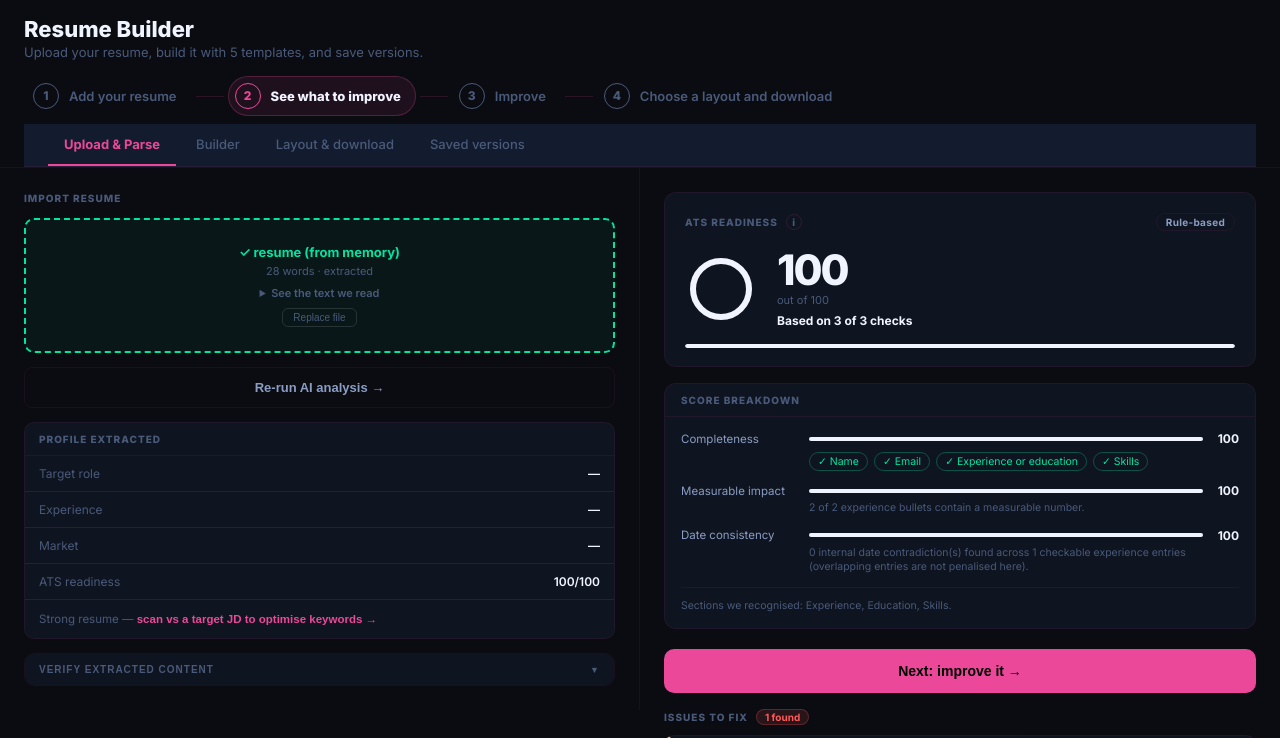
the Builder and the template › no longer carries the row of template buttons; it names the template and links to the gallery
The image size is (1280, 738).
Click the button "Builder" at (218, 145), box [180,124,256,166]
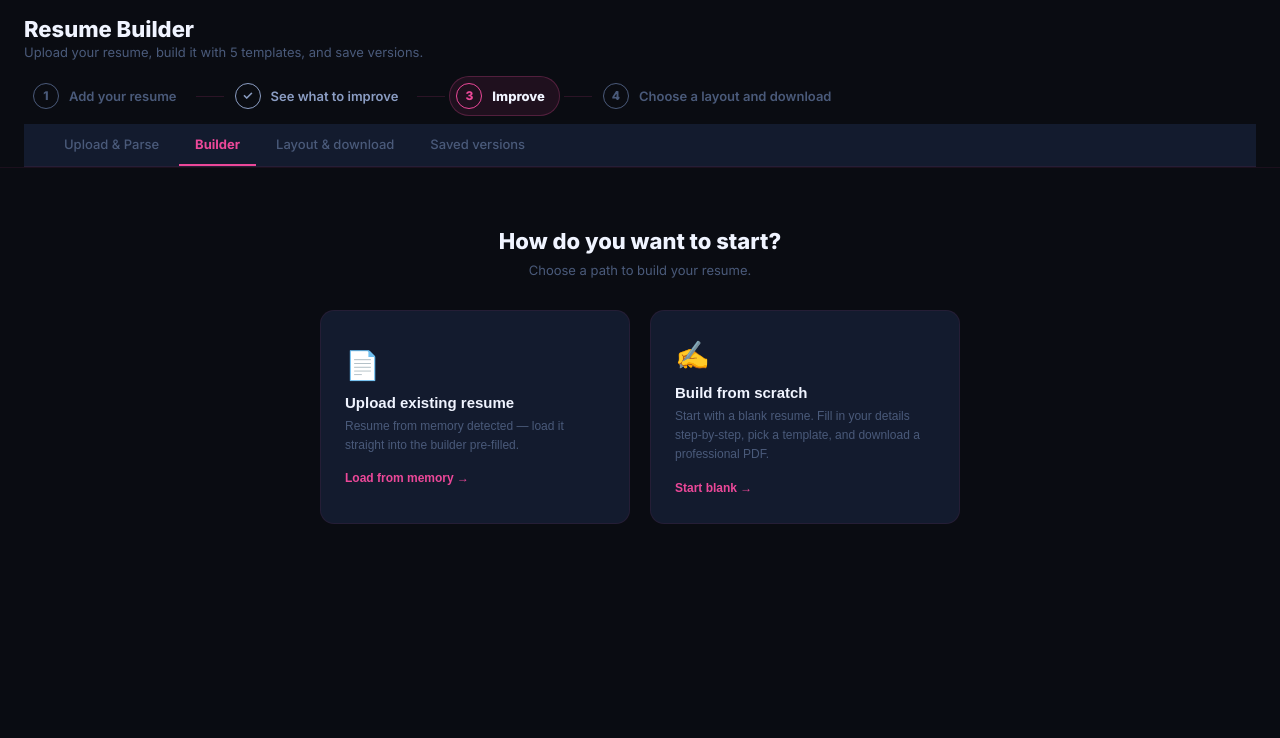
Click the text "Load from memory →" at (407, 478), box [345,471,469,485]
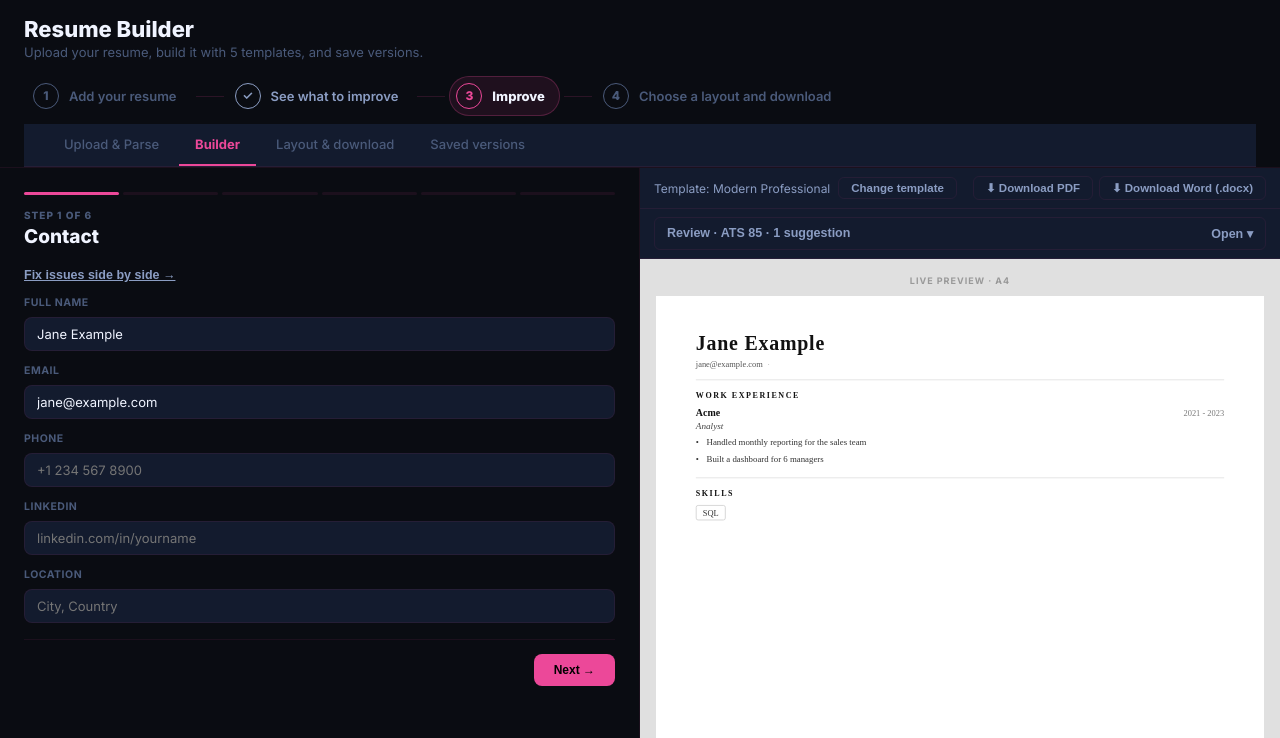
Click the button "Change template" at (898, 188), box [838,177,957,199]
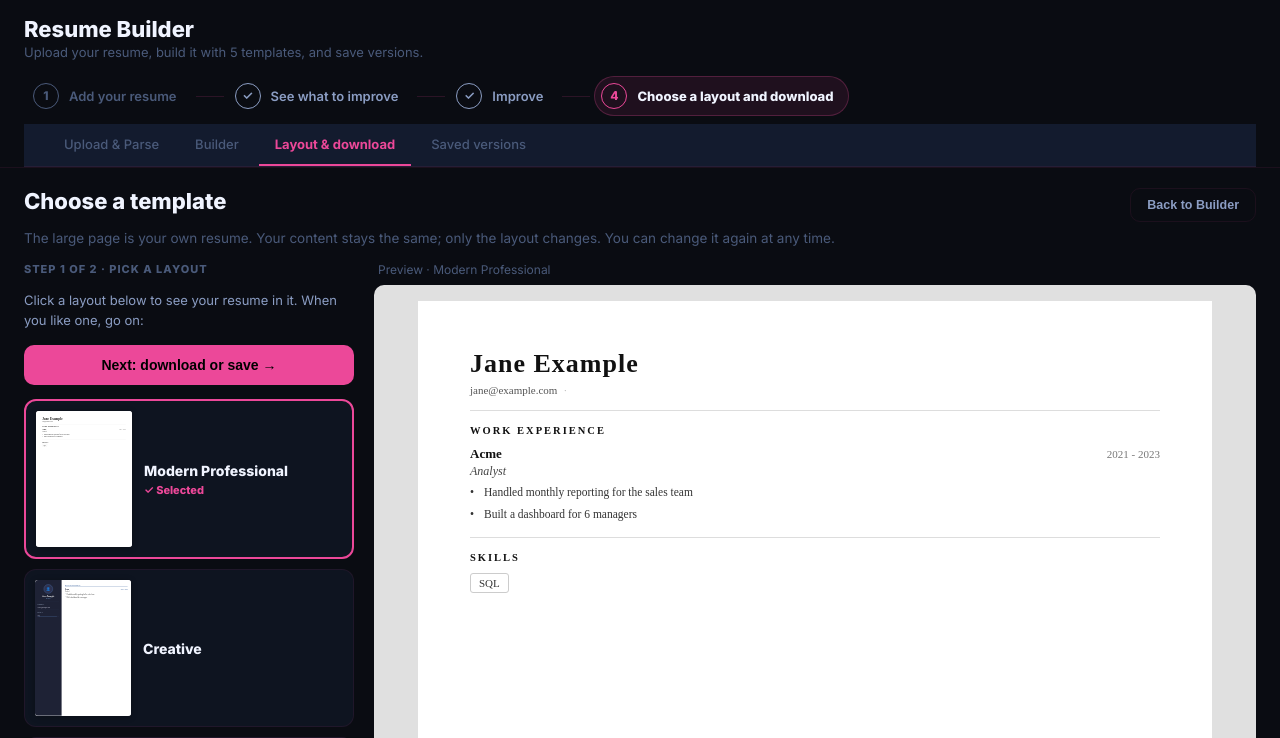
expect the heading "Choose a template" is shown: met, box [24,188,226,214]
